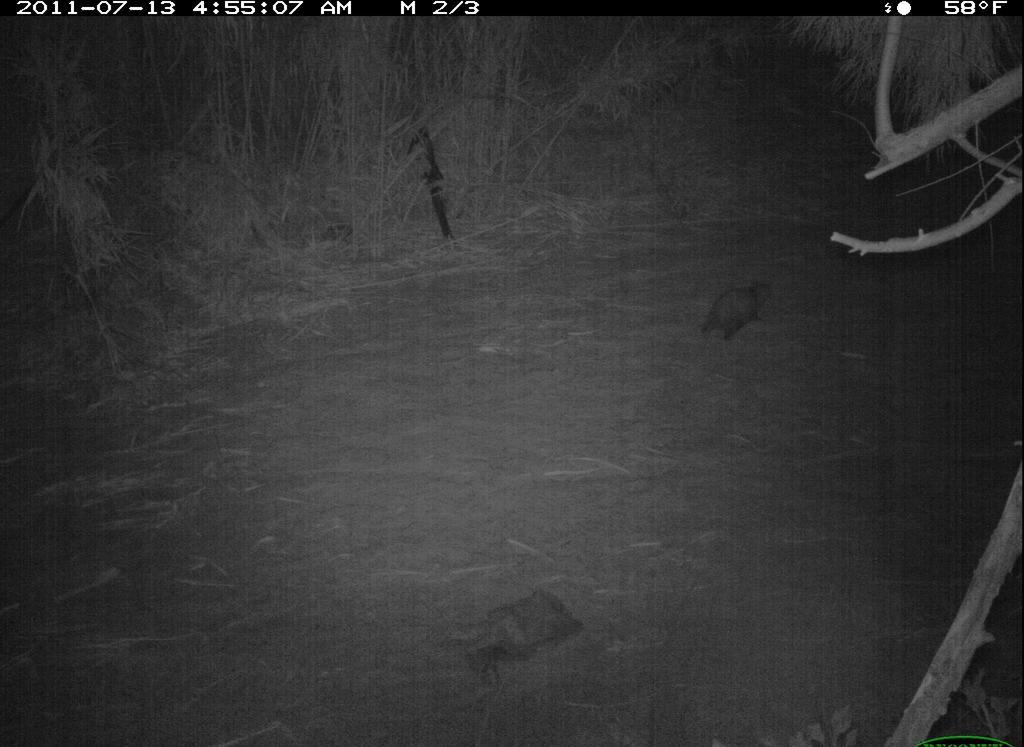opossum: (693, 272, 788, 351)
